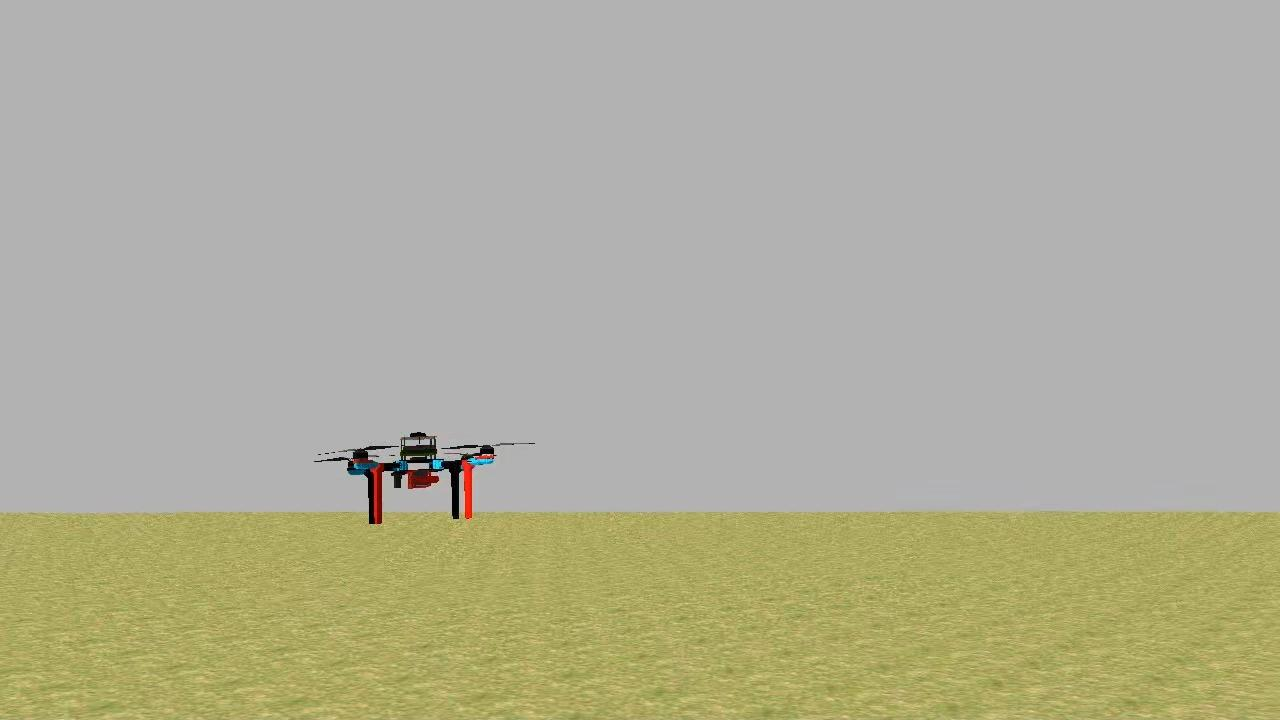UAV: (337, 423, 502, 533)
